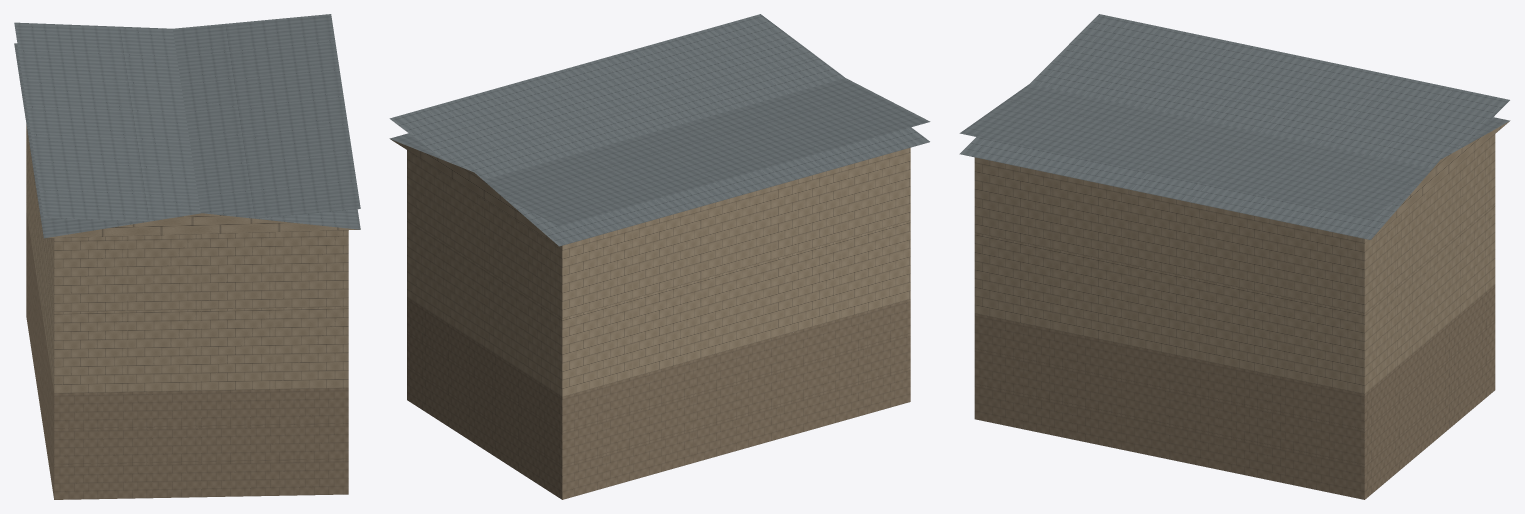
The model's file is bld_c12_45_507.gltf.
3 renders of one model, left to right at view 1: azimuth 30°, elevation 25°; view 2: azimuth 150°, elevation 25°; view 3: azimuth 270°, elevation 25°, orthographic. The views are drawn at different scales.
Visible parts, largest first — view 1: bld_c12_45_507; view 2: bld_c12_45_507; view 3: bld_c12_45_507.
Boxes of the visible parts, x1,y1,x2,y2 form: bld_c12_45_507: (14,14,360,499); bld_c12_45_507: (389,14,930,499); bld_c12_45_507: (959,14,1510,499).
Size of the model in its own units: 21.27 by 13.9 by 24.11.
Materials: 4 (4 with a texture image).
